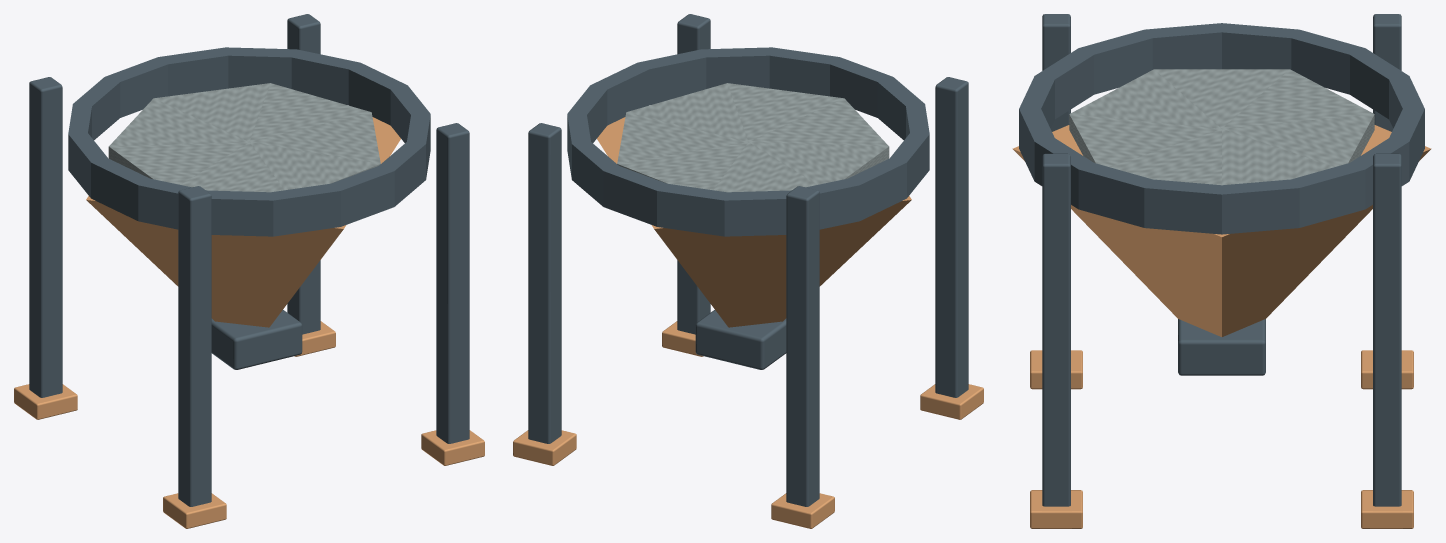
The model's file is dwarven-runeforge-dungeon-dwarven-runeforge-dungeon-or-1e21d1eb__28606.glb.
3 views of the same model, side by side, from view 1: azimuth 30°, elevation 25°; view 2: azimuth 150°, elevation 25°; view 3: azimuth 270°, elevation 25° (orthographic). The views are drawn at different scales.
Parts seen in each view (by area): view 1: dwarven-runeforge-dungeon-ore-hopper; view 2: dwarven-runeforge-dungeon-ore-hopper; view 3: dwarven-runeforge-dungeon-ore-hopper.
Part boxes in pixels (left/top/right/bottom): dwarven-runeforge-dungeon-ore-hopper: left=14, top=14, right=484, bottom=528; dwarven-runeforge-dungeon-ore-hopper: left=513, top=14, right=983, bottom=528; dwarven-runeforge-dungeon-ore-hopper: left=1012, top=14, right=1431, bottom=528.
Bounding box in the file's own units: 1.9 × 1.8 × 1.9.
3 materials, 1 textured.
